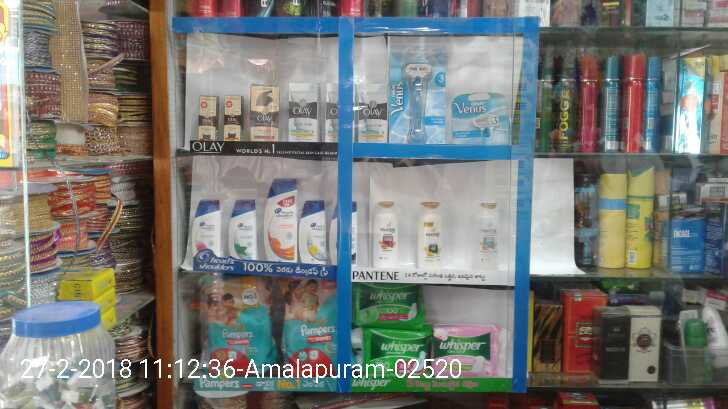venus: (386, 45, 441, 143), (455, 92, 507, 148)
